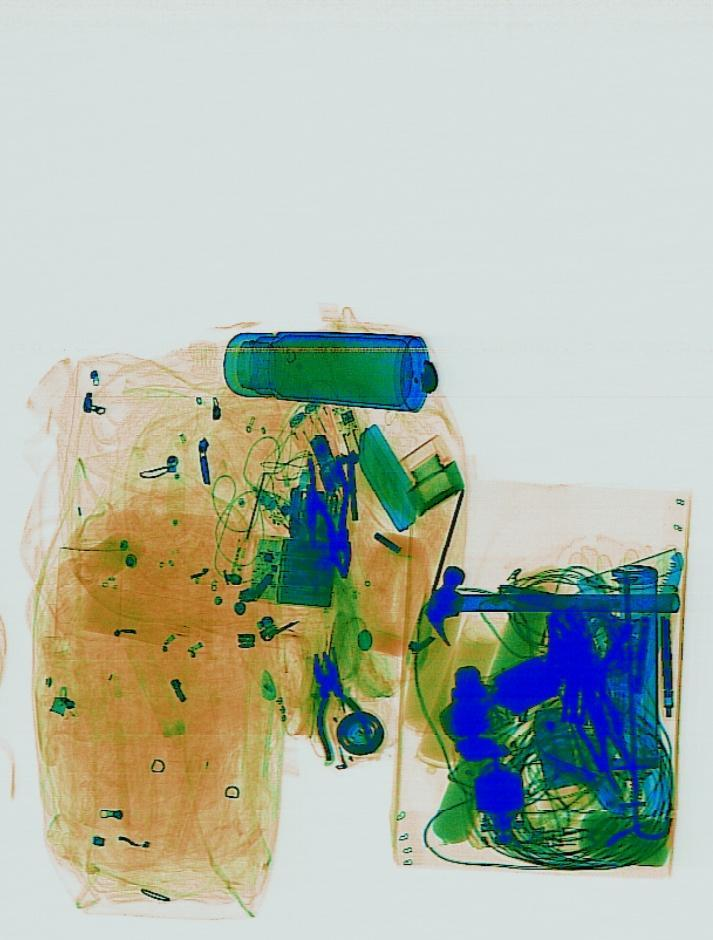Pliers: (294, 640, 374, 765), (305, 471, 366, 584)
